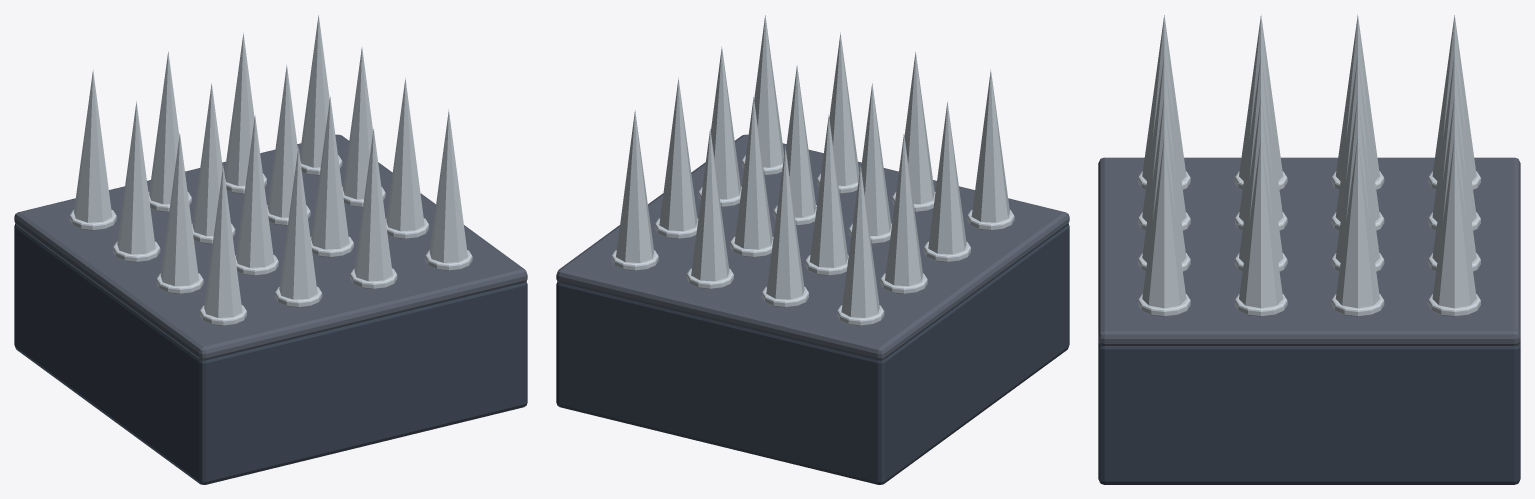
File: spikes.glb
3 renders of one model, left to right at view 1: azimuth 30°, elevation 25°; view 2: azimuth 150°, elevation 25°; view 3: azimuth 270°, elevation 25°, orthographic. The views are drawn at different scales.
Visible parts, largest first — view 1: SpikeTrap_Recess, SpikeTrap_MovingSpikes, SpikeTrap_TopPlate; view 2: SpikeTrap_Recess, SpikeTrap_MovingSpikes, SpikeTrap_TopPlate; view 3: SpikeTrap_Recess, SpikeTrap_TopPlate, SpikeTrap_MovingSpikes, SpikeTrap_Socket.013, SpikeTrap_Socket.014, SpikeTrap_Socket.012, SpikeTrap_Socket.015.
Part boxes in pixels (<box>): SpikeTrap_Recess: <box>14,224,527,484</box>; SpikeTrap_MovingSpikes: <box>74,15,467,317</box>; SpikeTrap_TopPlate: <box>14,134,527,360</box>; SpikeTrap_Recess: <box>556,224,1069,484</box>; SpikeTrap_MovingSpikes: <box>616,15,1009,317</box>; SpikeTrap_TopPlate: <box>556,134,1069,360</box>; SpikeTrap_Recess: <box>1098,342,1520,484</box>; SpikeTrap_TopPlate: <box>1098,157,1520,345</box>; SpikeTrap_MovingSpikes: <box>1142,14,1476,308</box>; SpikeTrap_Socket.013: <box>1234,294,1287,316</box>; SpikeTrap_Socket.014: <box>1331,294,1384,316</box>; SpikeTrap_Socket.012: <box>1138,294,1190,316</box>; SpikeTrap_Socket.015: <box>1428,294,1480,316</box>.
Bounding box in the file's own units: 2.4 × 2.02 × 2.4.
